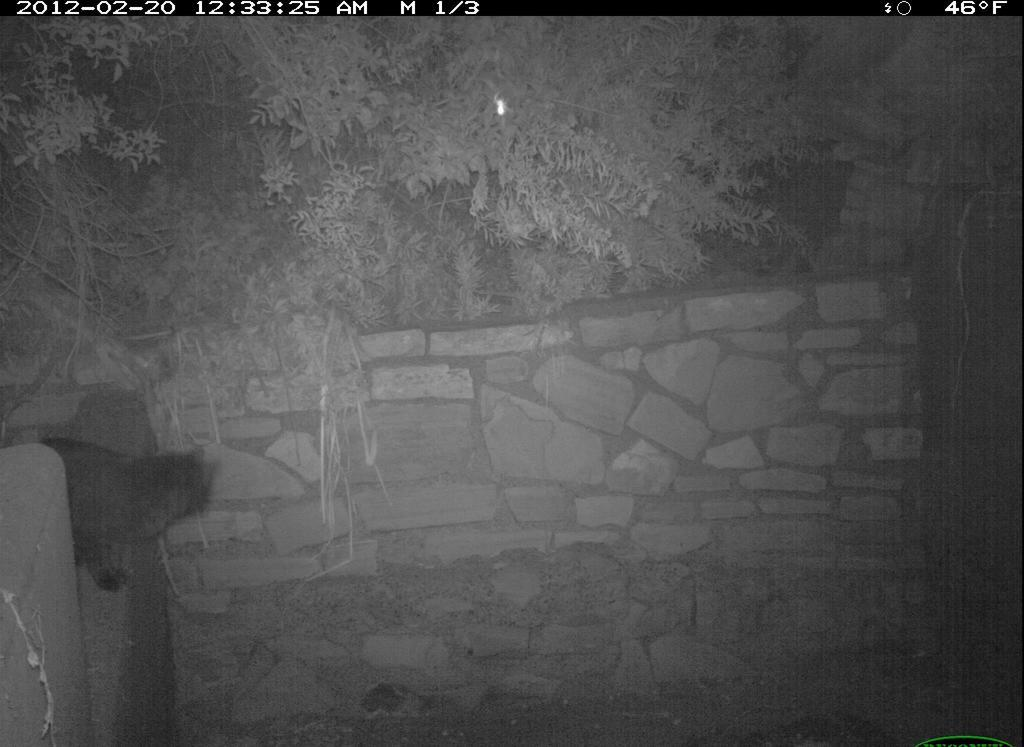cat: (31, 417, 230, 605)
